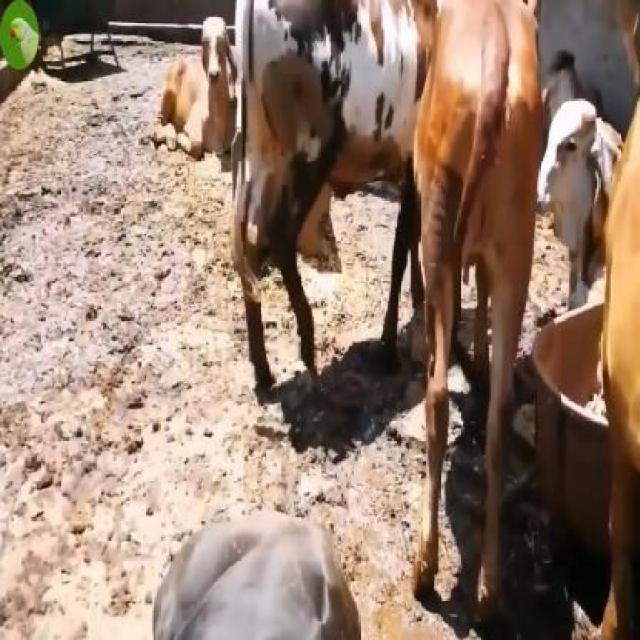Cow: (156, 14, 238, 152)
